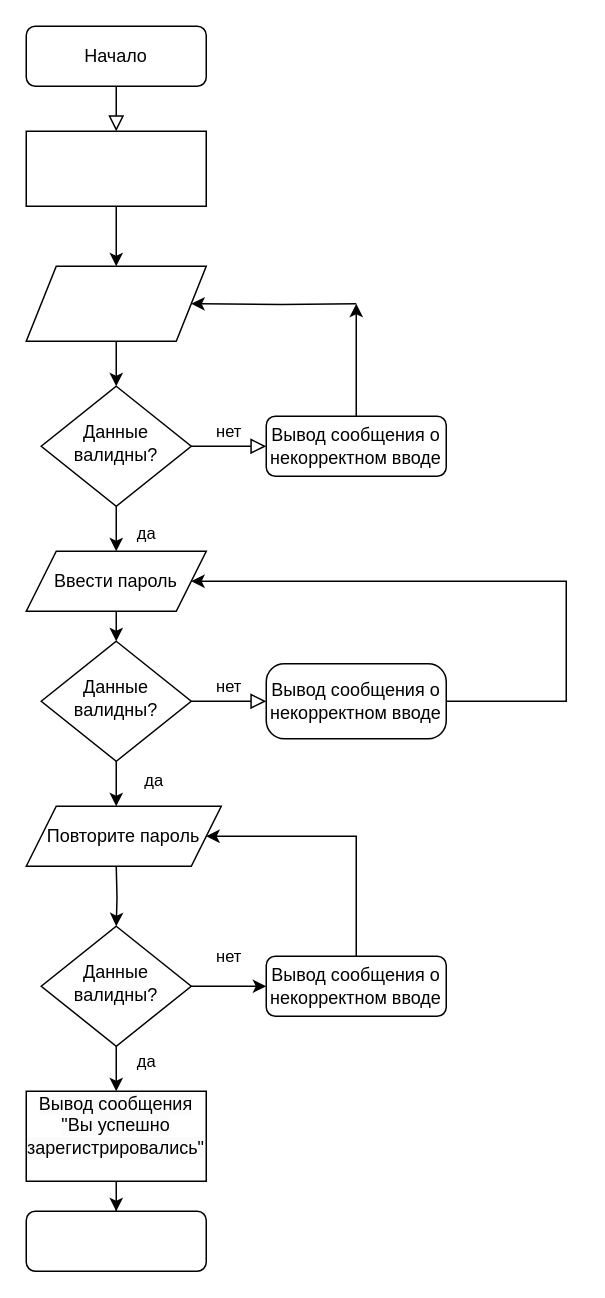
This 605x1298 diagram has some shape labels left out. Here are the shapes that lost their labels. From the top down, the box of each, then its label:
(25, 130, 206, 206): Открыть форму "Регистрация"
(25, 265, 206, 341): Ввести логин
(25, 1210, 206, 1271): Конец
